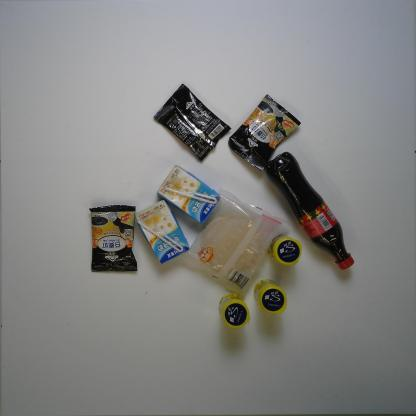Dessert: (184, 190, 288, 298)
Drink: (262, 148, 358, 272)
Gum: (250, 277, 288, 318), (216, 290, 253, 332), (265, 233, 304, 270)
Instant Drink: (153, 84, 232, 164), (226, 92, 301, 172), (87, 201, 142, 275)
Milk: (154, 165, 224, 226), (132, 197, 192, 268)
